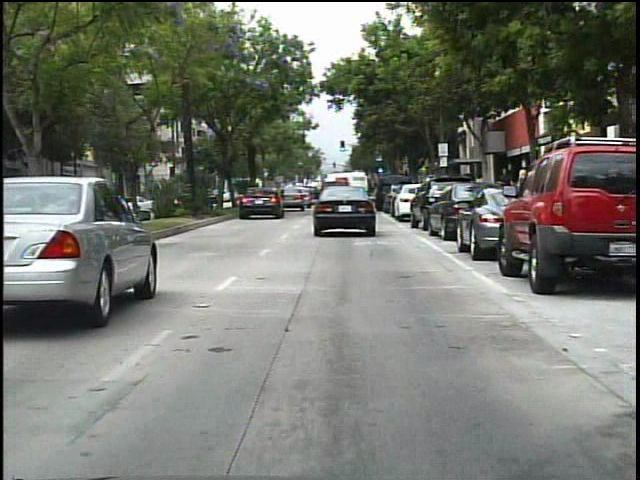person: (492, 159, 517, 221)
